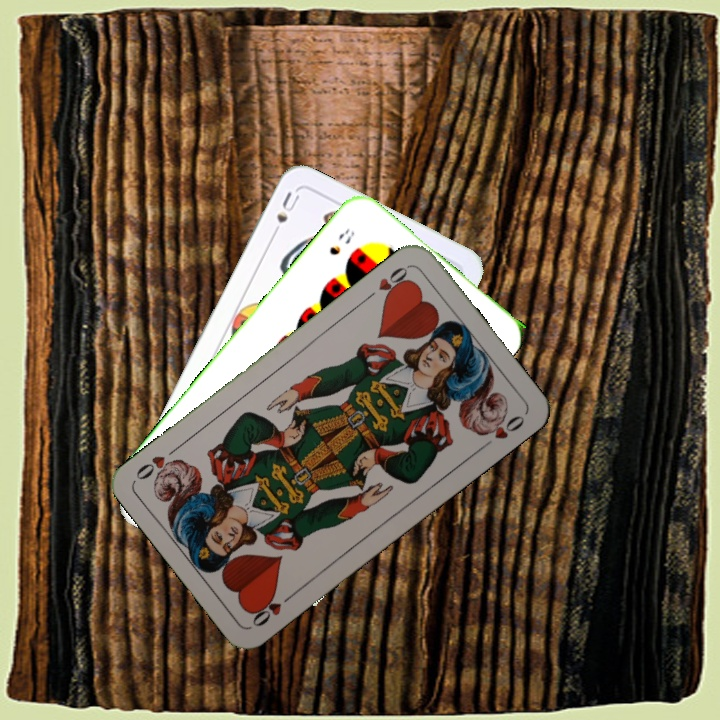HO: (247, 588, 298, 630), (361, 262, 413, 303)
S8: (325, 224, 358, 258)
SU: (266, 187, 303, 242)
